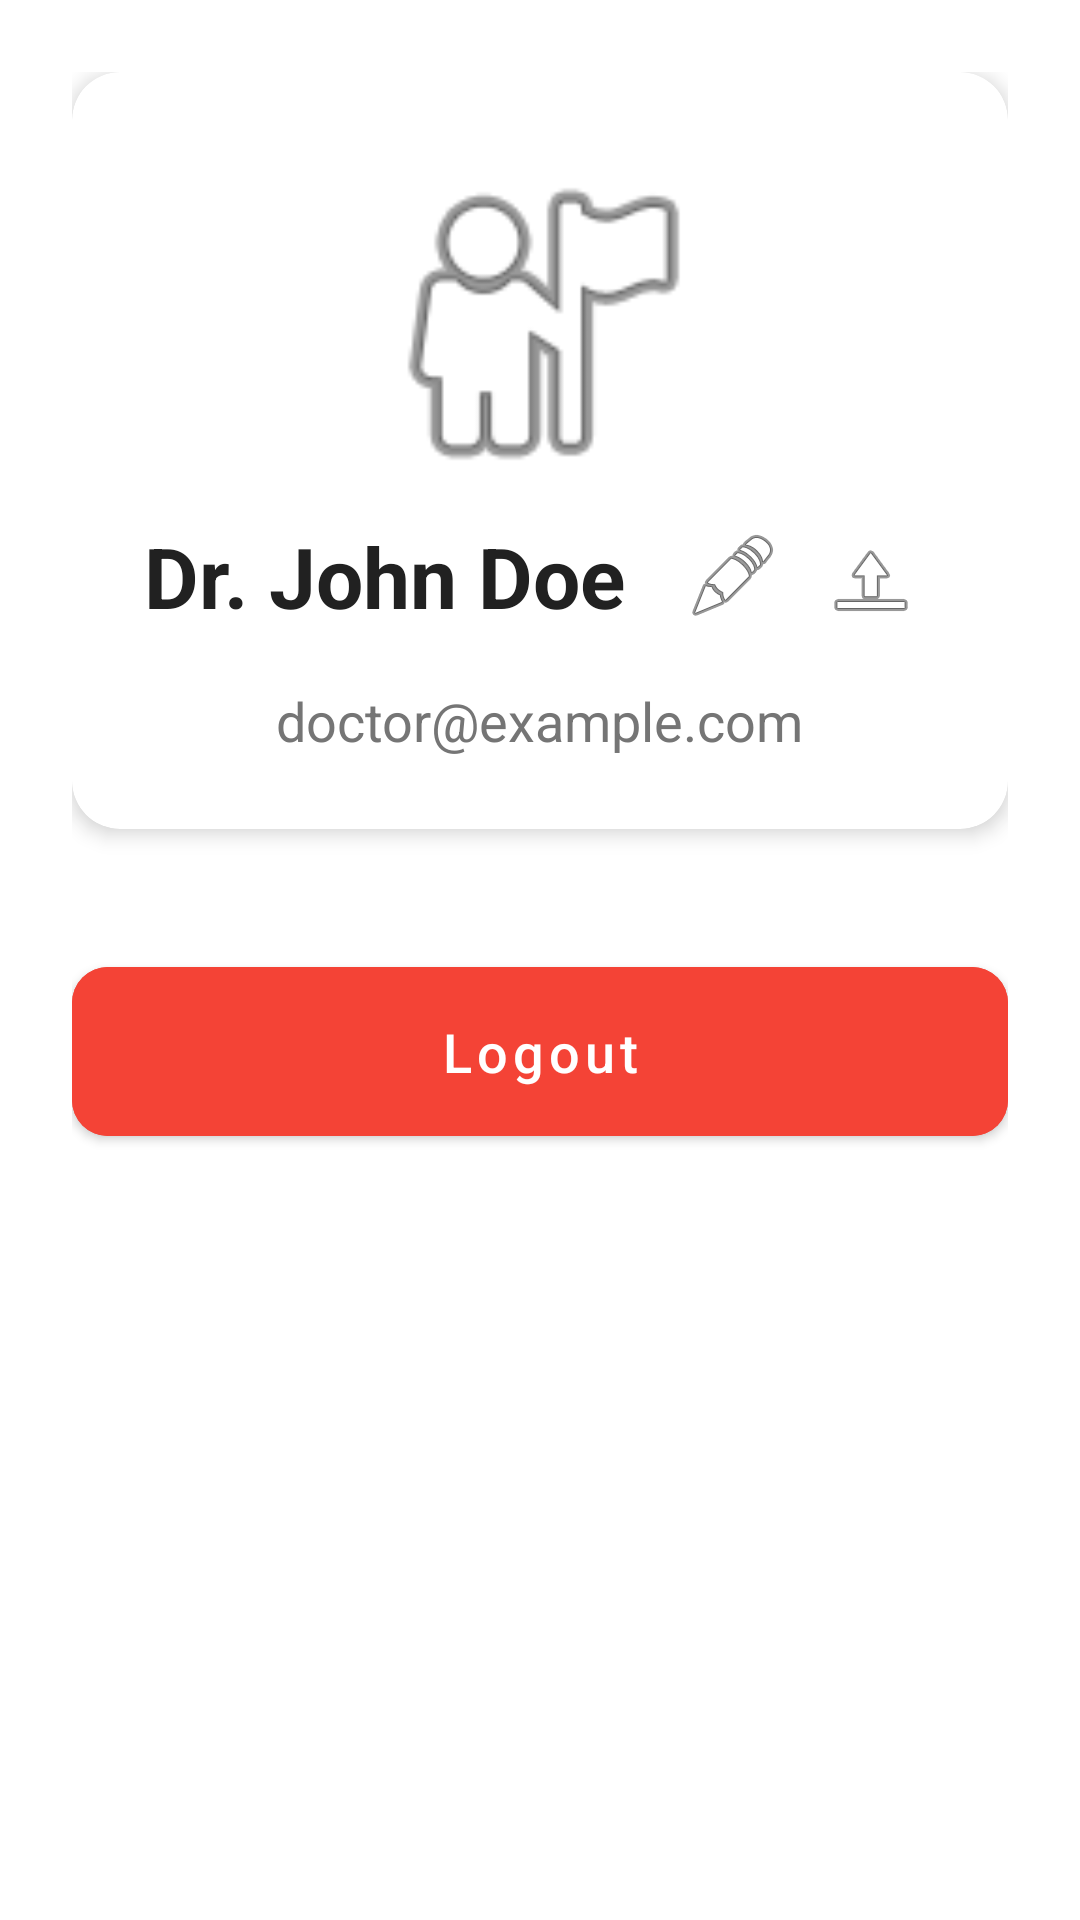

Where to tap for icons on this 1080px x 1920px app screen, as point (x, y):
Change photo: point (871, 580)
Edit name: point (732, 575)
